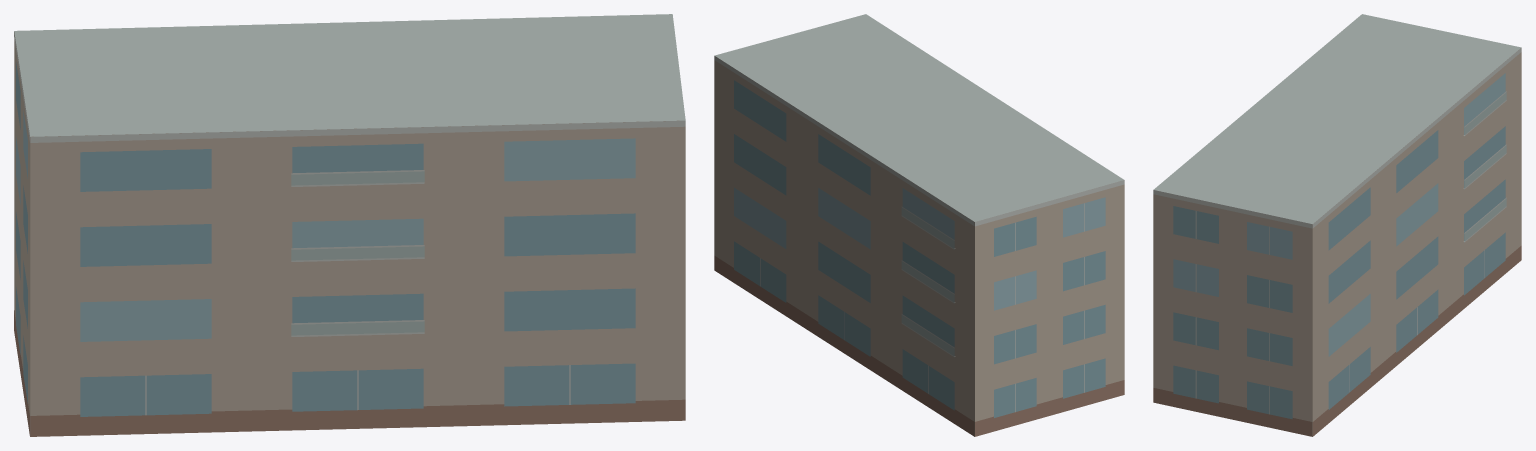
The model's file is survey-upis-32537197.glb.
The picture shows the model from 3 angles, left to right: view 1: azimuth 30°, elevation 25°; view 2: azimuth 150°, elevation 25°; view 3: azimuth 270°, elevation 25°; orthographic projection. The views are drawn at different scales.
Parts seen in each view (by area): view 1: survey-upis-32537197.tmp; view 2: survey-upis-32537197.tmp; view 3: survey-upis-32537197.tmp.
Boxes of the visible parts, x1,y1,x2,y2 form: survey-upis-32537197.tmp: (14, 14, 685, 436); survey-upis-32537197.tmp: (714, 14, 1124, 436); survey-upis-32537197.tmp: (1153, 14, 1521, 436).
Bounding box in the file's own units: 25.02 × 11.8 × 18.53.
